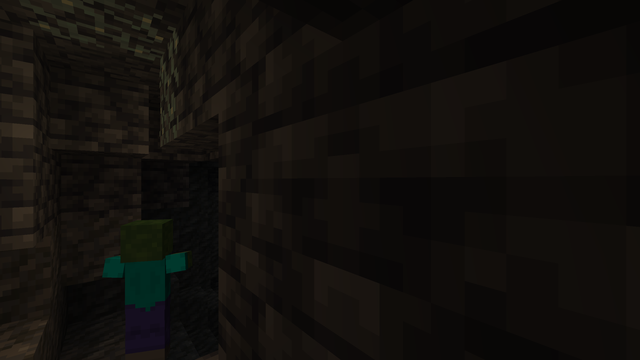zombies: (121, 221, 175, 359)
